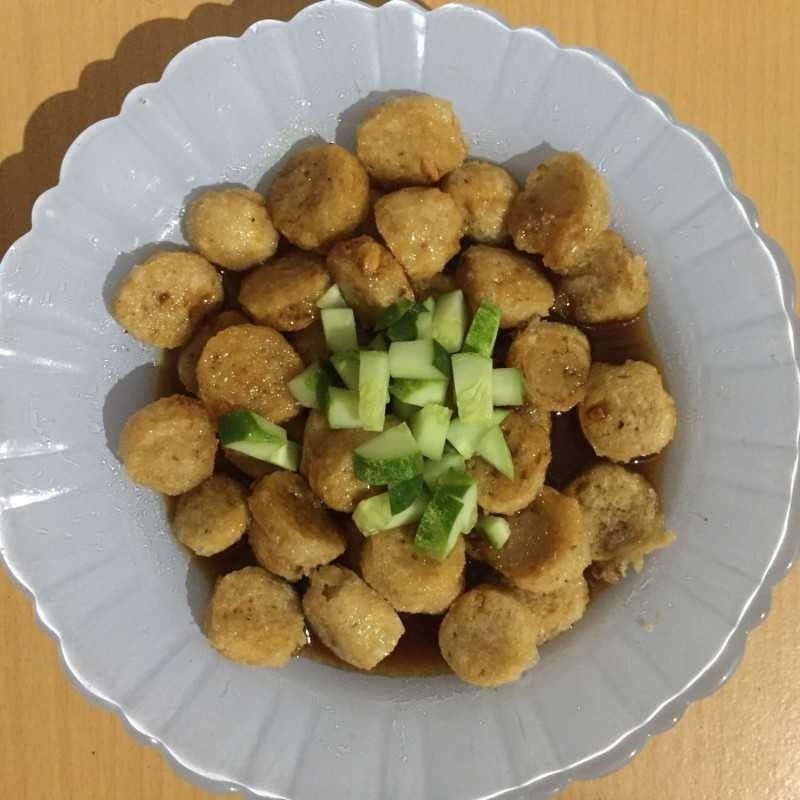pempek: (112, 100, 673, 679)
